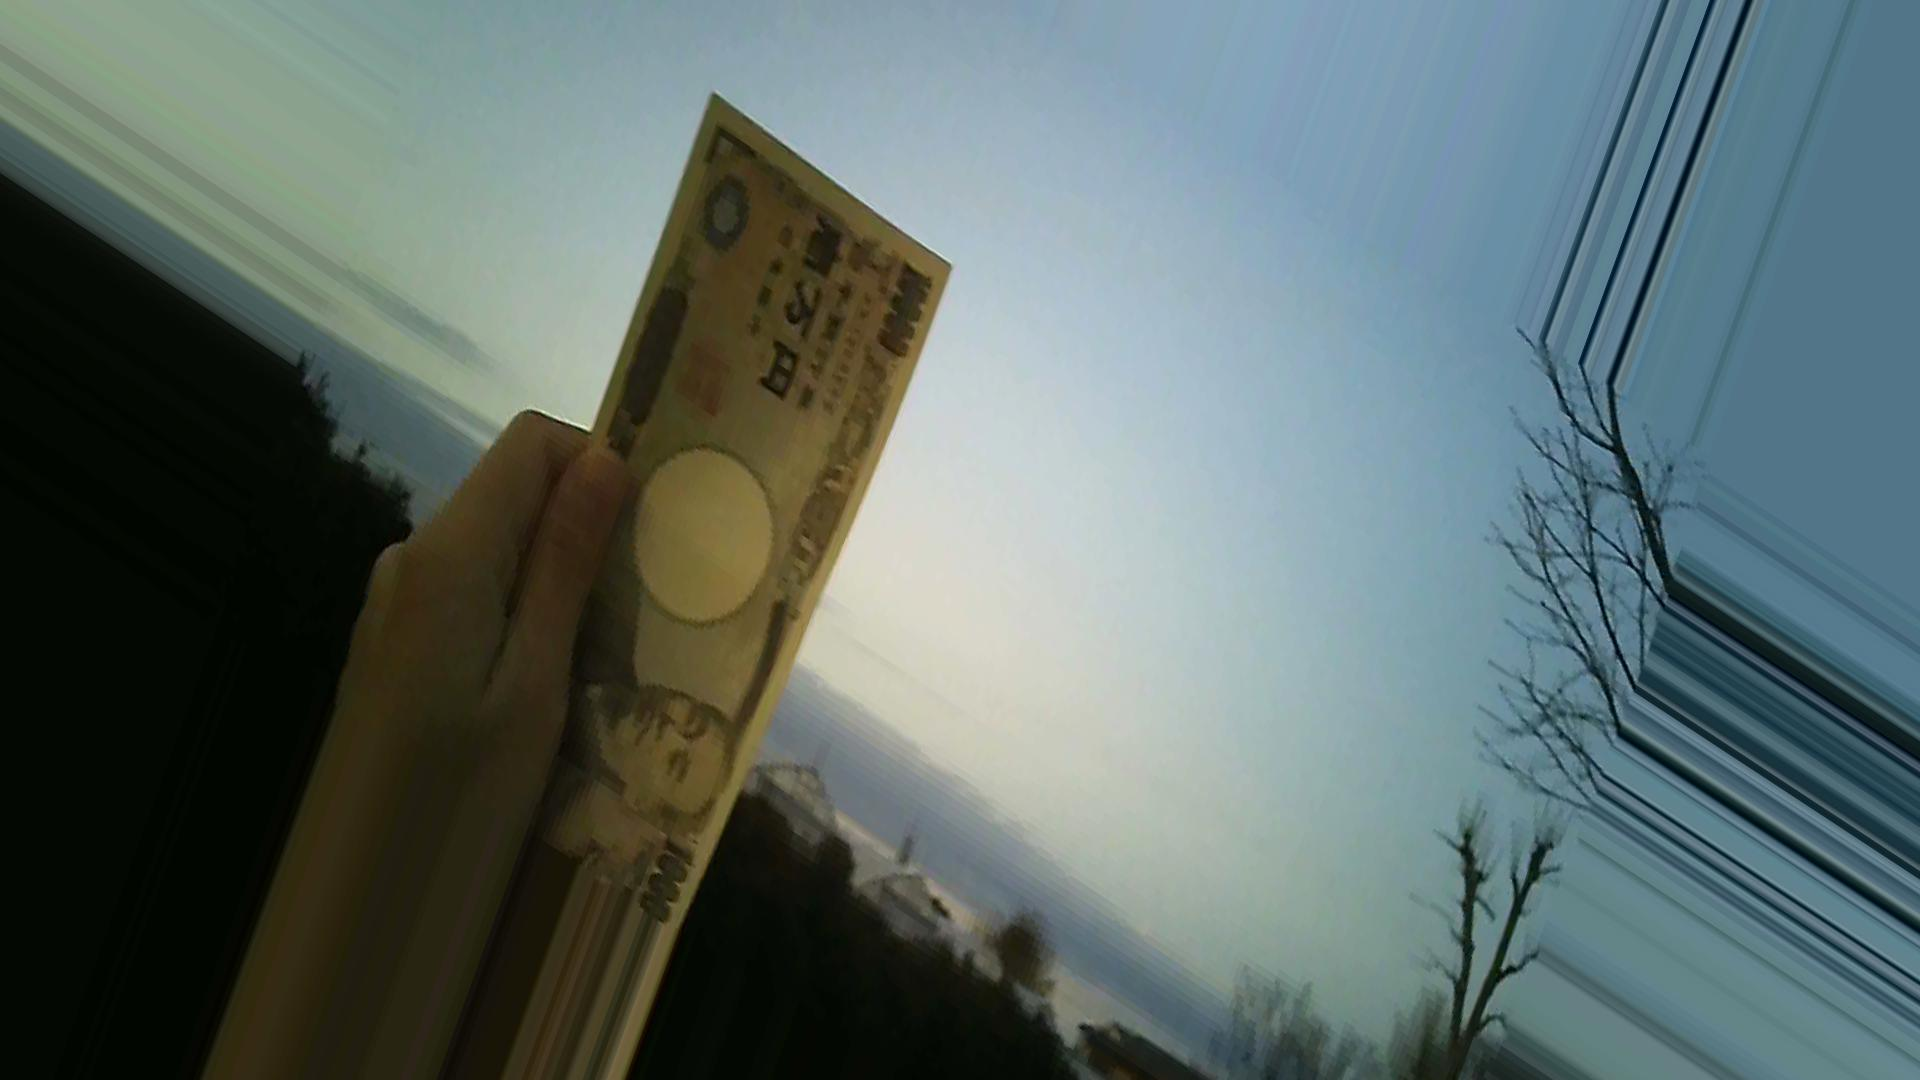10,000 Yen: (529, 78, 956, 920)
